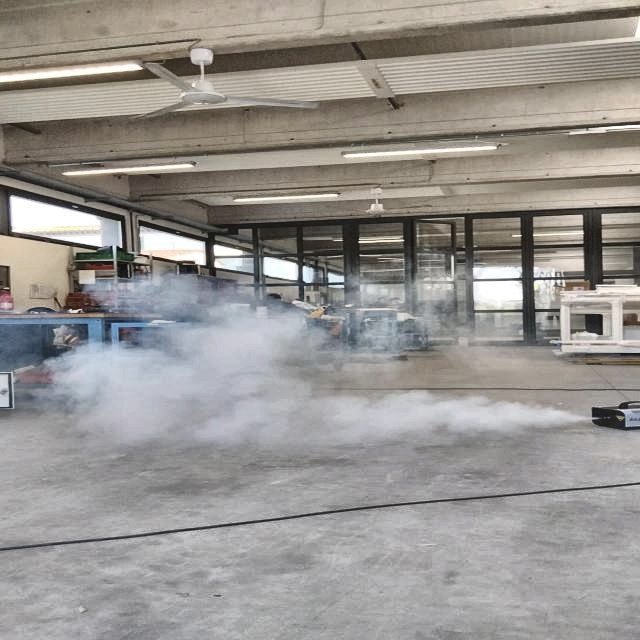smoke: (47, 271, 601, 475)
